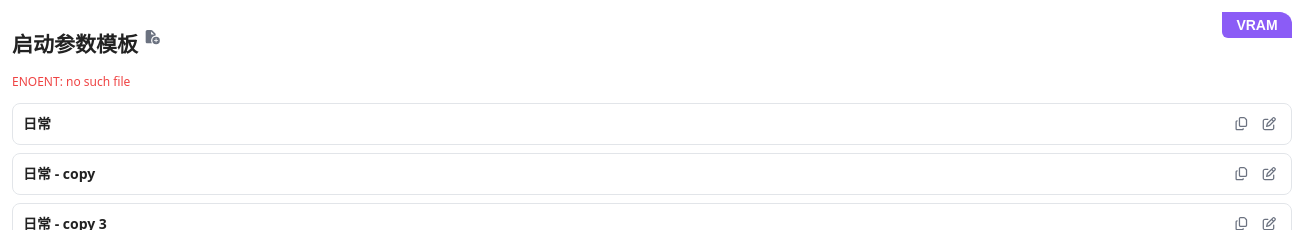
Scenario: TemplateModule › copy_skips_taken_numbers_and_reuses_free_slot
Click the 1st button named "复制" at (1241, 124), box left=1229, top=112, right=1253, bottom=136
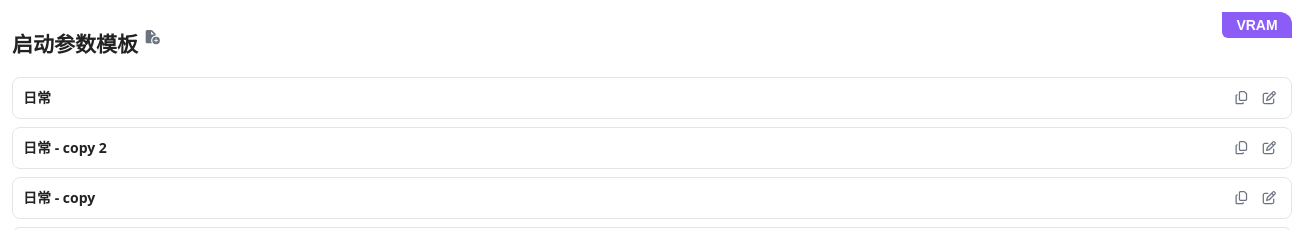
Check: the number of elements with class "tpl-row" is 4
Check: the element with class "tpl-row" reads "日常 - copy 2", box left=23, top=138, right=107, bottom=157
